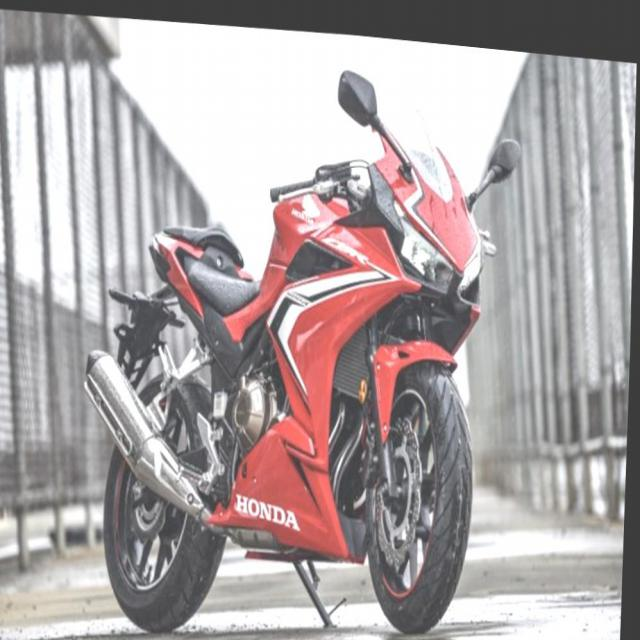CBR500R: (74, 33, 531, 639)
